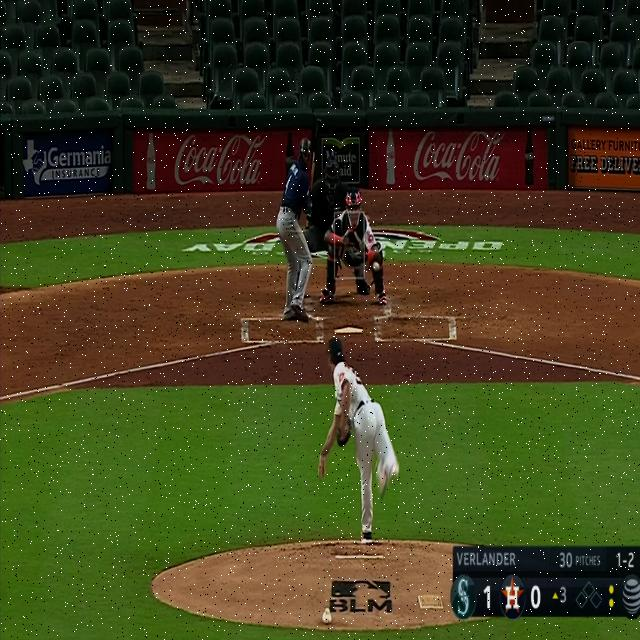baseball: (372, 261, 380, 273)
